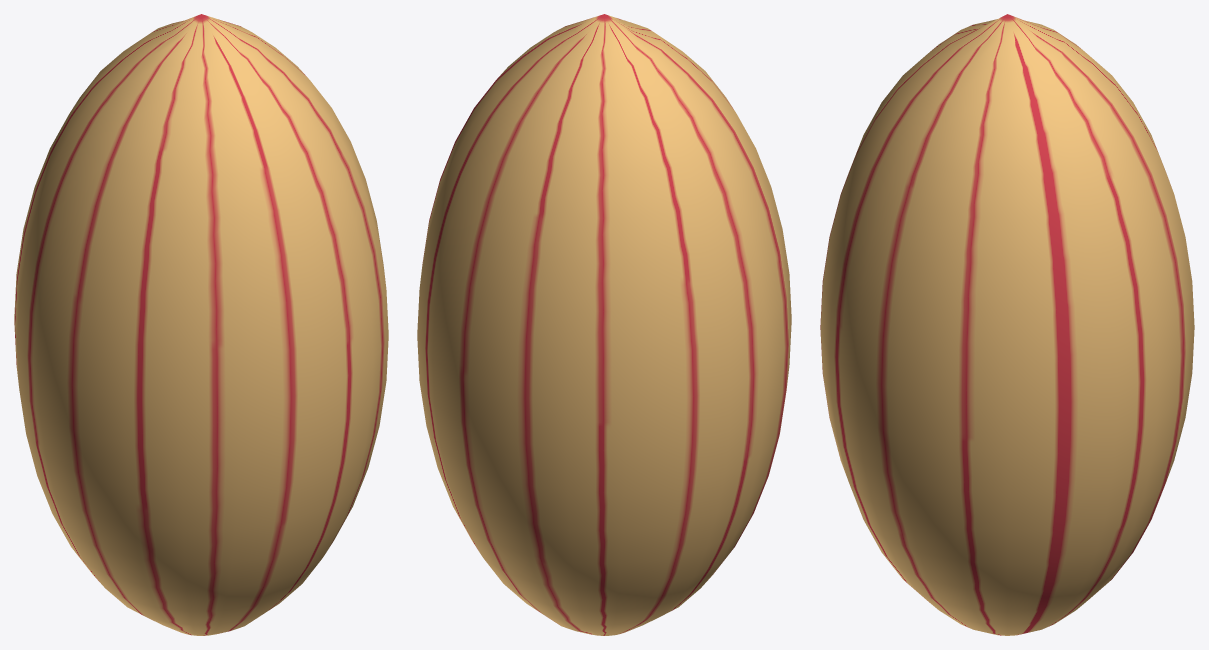
Rendered from OrchidSeed.fbx.
3 views of the same model, side by side, from view 1: azimuth 30°, elevation 25°; view 2: azimuth 150°, elevation 25°; view 3: azimuth 270°, elevation 25° (orthographic).
Visible parts, largest first — view 1: pSphere1; view 2: pSphere1; view 3: pSphere1.
Boxes of the visible parts, x1=… form: pSphere1: x1=14, y1=14, x2=388, y2=635; pSphere1: x1=417, y1=14, x2=791, y2=635; pSphere1: x1=820, y1=14, x2=1194, y2=635.
Bounding box in the file's own units: 0.9542 × 1.72 × 0.946.
1 material, 1 textured.
